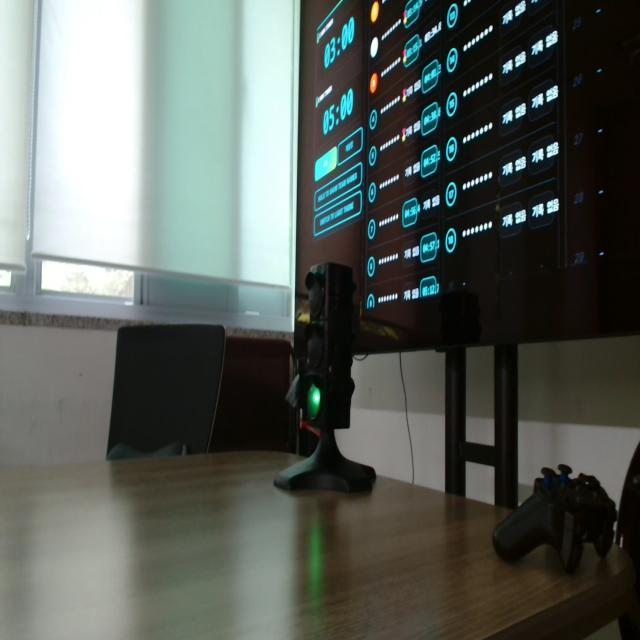green_light: (308, 384, 320, 419)
